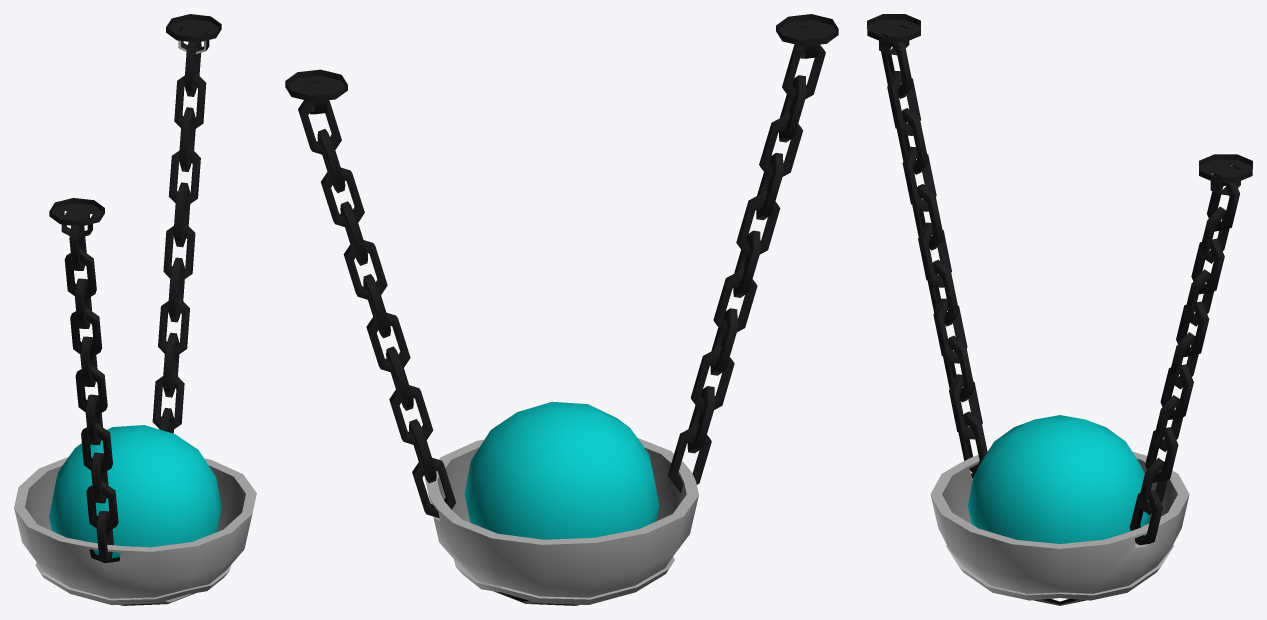
File: Hea_Ba_Hanging_Light.fbx
The picture shows the model from 3 angles, left to right: view 1: azimuth 30°, elevation 25°; view 2: azimuth 150°, elevation 25°; view 3: azimuth 270°, elevation 25°; orthographic projection. The views are drawn at different scales.
Parts seen in each view (by area): view 1: LightSource_Toilet.001; view 2: LightSource_Toilet.001; view 3: LightSource_Toilet.001.
Part boxes in pixels (box(x1,y1,x2,y2)): LightSource_Toilet.001: box(14, 14, 256, 605); LightSource_Toilet.001: box(285, 14, 838, 605); LightSource_Toilet.001: box(867, 14, 1252, 605).
Bounding box in the file's own units: 105 × 149 × 105.
